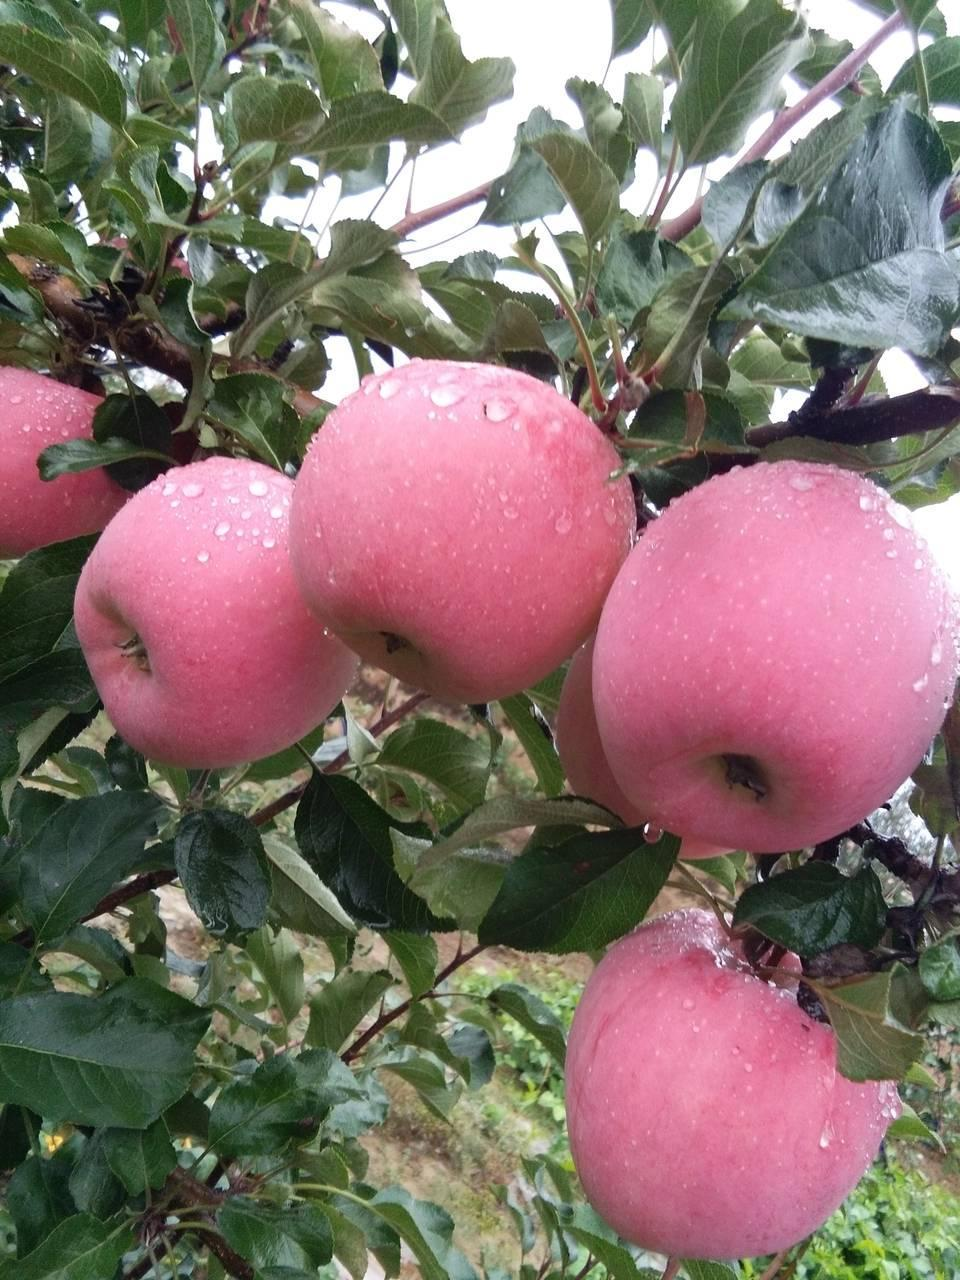apple: (584, 457, 960, 848), (554, 906, 899, 1264), (296, 350, 635, 703), (74, 447, 347, 765)
